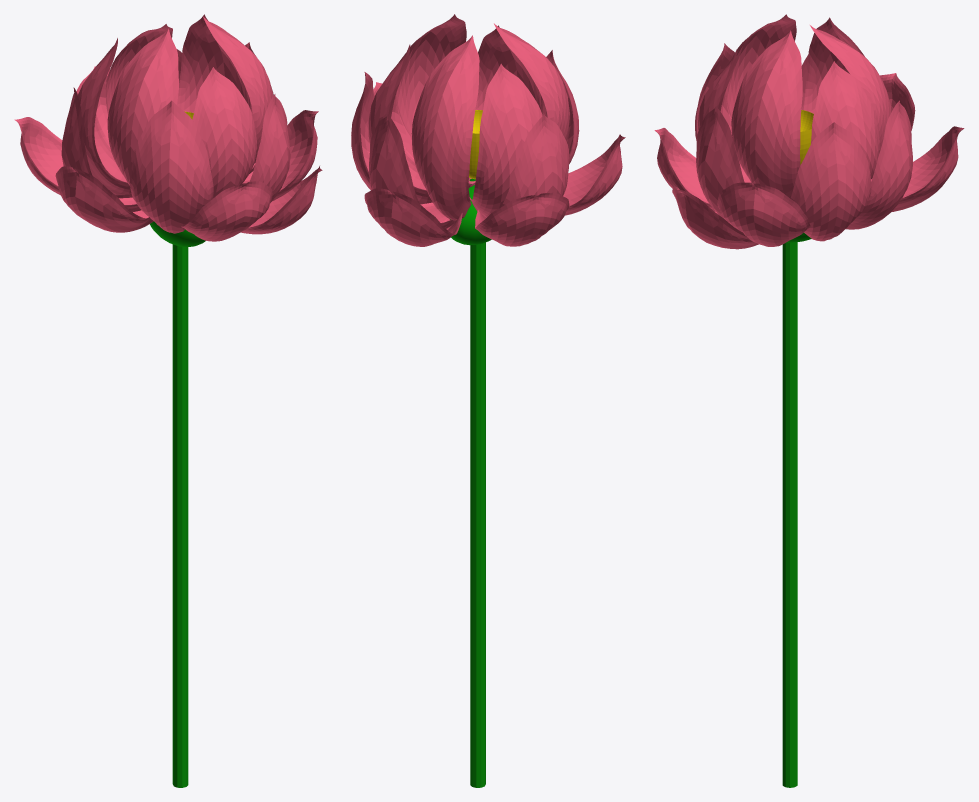
Rendered from Lotus052.fbx.
3 views of the same model, side by side, from view 1: azimuth 30°, elevation 25°; view 2: azimuth 150°, elevation 25°; view 3: azimuth 270°, elevation 25° (orthographic).
Visible parts, largest first — view 1: pCylinder1, nurbsToPoly16, nurbsToPoly21, nurbsToPoly18, nurbsToPoly11, nurbsToPoly8, nurbsToPoly20, nurbsToPoly19, nurbsToPoly13, nurbsToPoly22, nurbsToPoly12, nurbsToPoly9 (+4 smaller); view 2: pCylinder1, nurbsToPoly23, nurbsToPoly20, nurbsToPoly14, nurbsToPoly10, nurbsToPoly12, nurbsToPoly22, nurbsToPoly17, nurbsToPoly21, nurbsToPoly11, nurbsToPoly18, nurbsToPoly19 (+4 smaller); view 3: pCylinder1, nurbsToPoly22, nurbsToPoly15, nurbsToPoly9, nurbsToPoly19, nurbsToPoly17, nurbsToPoly13, nurbsToPoly10, nurbsToPoly23, nurbsToPoly24, nurbsToPoly21, nurbsToPoly8 (+4 smaller).
Part boxes in pixels (x1,y1,x2,y2): pCylinder1: [172, 244, 188, 787]; nurbsToPoly16: [129, 100, 213, 233]; nurbsToPoly21: [107, 28, 178, 185]; nurbsToPoly18: [192, 67, 256, 197]; nurbsToPoly11: [55, 166, 153, 232]; nurbsToPoly8: [181, 181, 272, 241]; nurbsToPoly20: [78, 38, 131, 194]; nurbsToPoly19: [177, 14, 249, 112]; nurbsToPoly13: [242, 94, 290, 203]; nurbsToPoly22: [203, 16, 273, 163]; nurbsToPoly12: [14, 117, 132, 198]; nurbsToPoly9: [244, 110, 318, 201]; pCylinder1: [470, 242, 485, 787]; nurbsToPoly23: [411, 35, 479, 220]; nurbsToPoly20: [469, 63, 542, 219]; nurbsToPoly14: [483, 114, 569, 218]; nurbsToPoly10: [364, 188, 462, 246]; nurbsToPoly12: [475, 192, 569, 246]; nurbsToPoly22: [395, 14, 471, 187]; nurbsToPoly17: [369, 114, 455, 228]; nurbsToPoly21: [468, 23, 569, 184]; nurbsToPoly11: [563, 134, 625, 215]; nurbsToPoly18: [469, 25, 542, 186]; nurbsToPoly19: [368, 44, 432, 204]; pCylinder1: [782, 242, 797, 787]; nurbsToPoly22: [731, 30, 802, 198]; nurbsToPoly15: [790, 122, 871, 241]; nurbsToPoly9: [717, 182, 810, 246]; nurbsToPoly19: [811, 61, 879, 178]; nurbsToPoly17: [845, 100, 912, 229]; nurbsToPoly13: [696, 106, 744, 218]; nurbsToPoly10: [871, 126, 964, 211]; nurbsToPoly23: [810, 25, 891, 179]; nurbsToPoly24: [672, 186, 758, 249]; nurbsToPoly21: [725, 14, 796, 120]; nurbsToPoly8: [654, 128, 715, 211].
Bounding box in the file's own units: 18.24 × 53.66 × 19.73.
